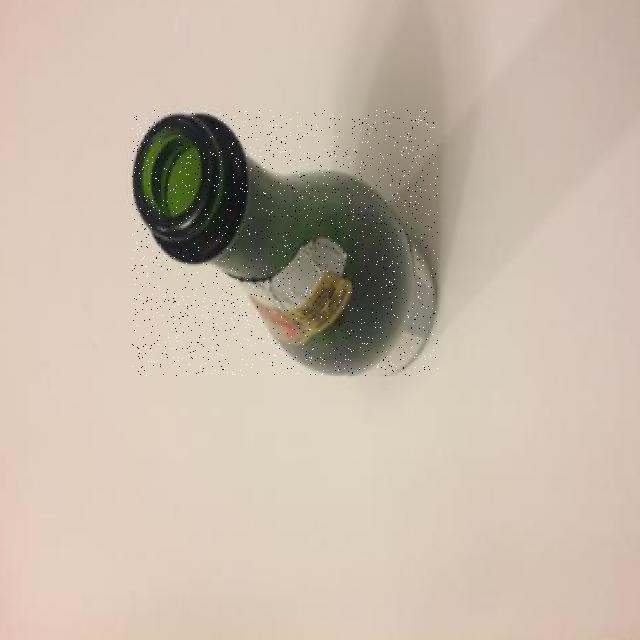glass: (132, 110, 438, 376)
